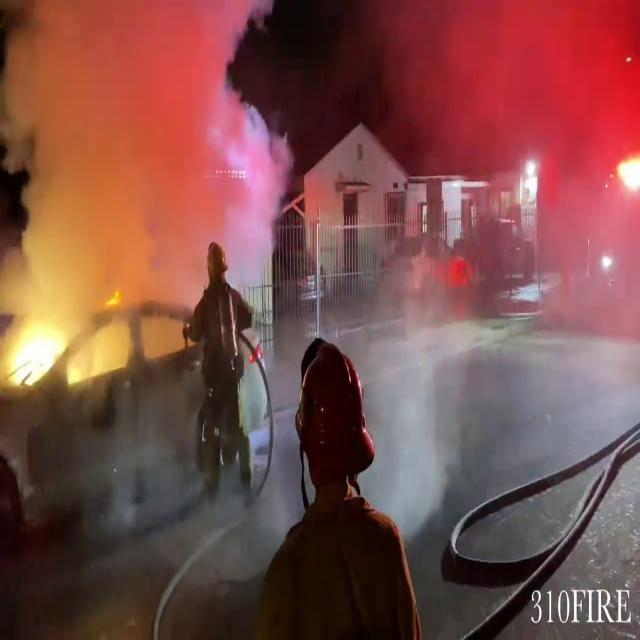Fire: (0, 294, 84, 396)
Smoke: (0, 0, 284, 294)
